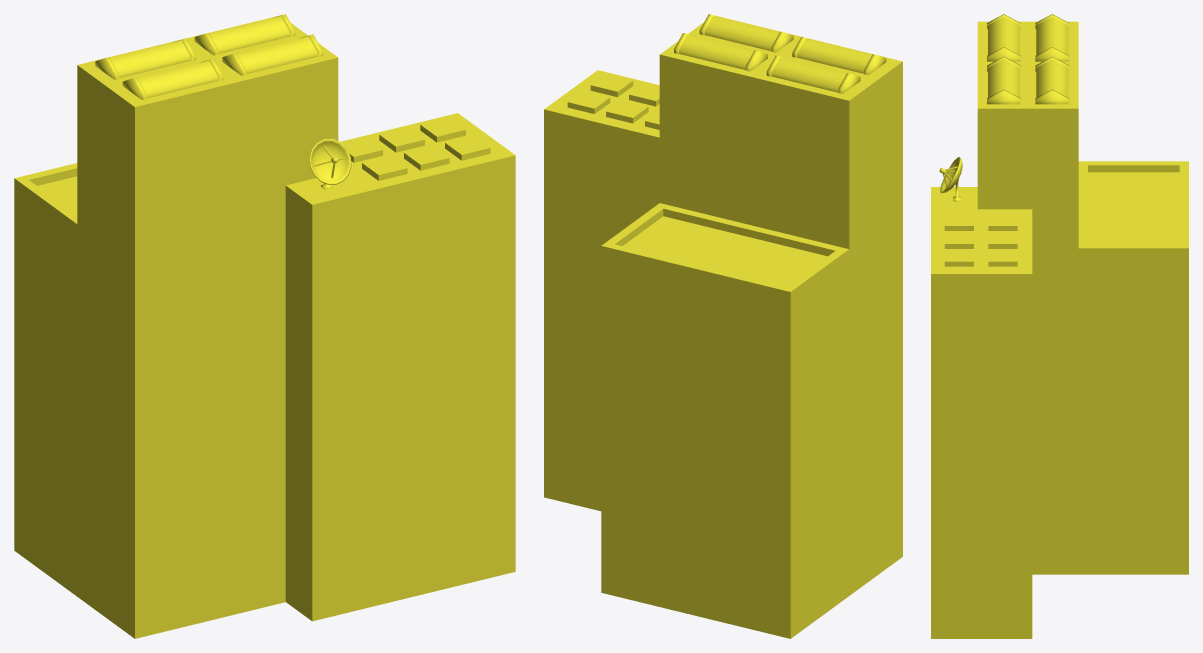
The model's file is Building6_yellow.fbx.
The picture shows the model from 3 angles, left to right: view 1: azimuth 30°, elevation 25°; view 2: azimuth 150°, elevation 25°; view 3: azimuth 270°, elevation 25°; orthographic projection. The views are drawn at different scales.
Parts seen in each view (by area): view 1: Building 6; view 2: Building 6; view 3: Building 6.
Boxes of the visible parts, bbox=[...] form: Building 6: bbox=[14, 14, 515, 638]; Building 6: bbox=[544, 14, 902, 638]; Building 6: bbox=[931, 14, 1188, 638].
Bounding box in the file's own units: 2932 × 4323 × 2109.
Materials: 1 (1 with a texture image).
